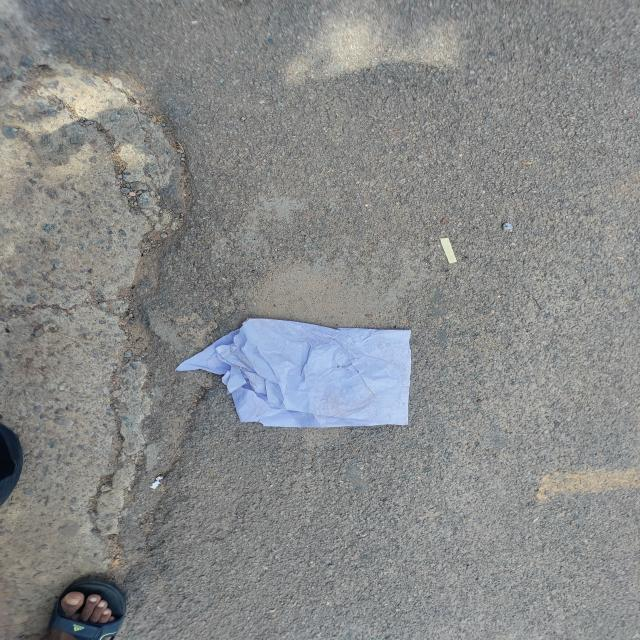dry: (179, 316, 410, 428)
